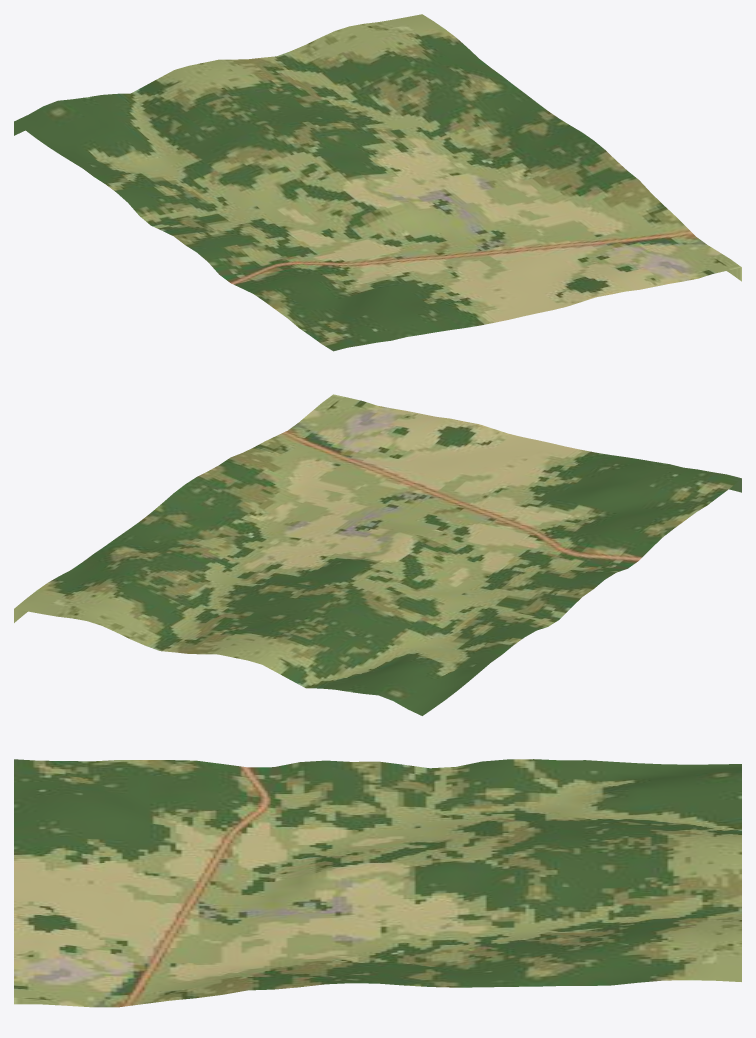
3 views of the same model, one above another, from view 1: azimuth 30°, elevation 25°; view 2: azimuth 150°, elevation 25°; view 3: azimuth 270°, elevation 25° (orthographic). The views are drawn at different scales.
Bounding box in the file's own units: 1802 × 179 × 2441.
1 material, 1 textured.
